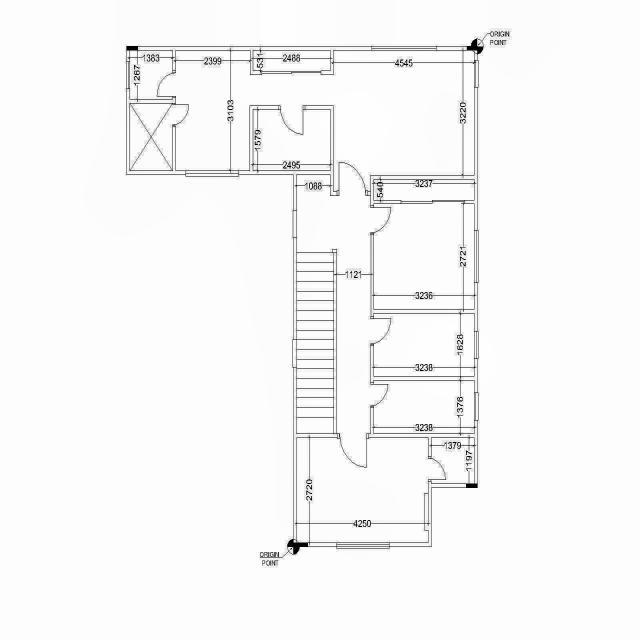Column: (294, 542, 308, 548), (466, 483, 478, 488), (126, 46, 138, 50), (467, 46, 477, 50)
Door: (337, 433, 369, 468), (337, 162, 368, 196), (278, 106, 306, 134), (370, 316, 390, 346), (370, 206, 390, 234), (157, 70, 176, 98), (428, 456, 446, 482), (371, 383, 388, 408), (172, 103, 188, 127)
Sliding Door: (402, 200, 464, 204), (262, 70, 322, 74)
Staircase: (296, 249, 336, 434)
Window: (336, 542, 389, 548), (186, 171, 238, 176), (372, 46, 436, 50), (474, 230, 478, 283), (126, 61, 130, 89), (474, 60, 478, 88), (474, 331, 478, 359), (474, 392, 478, 420)
